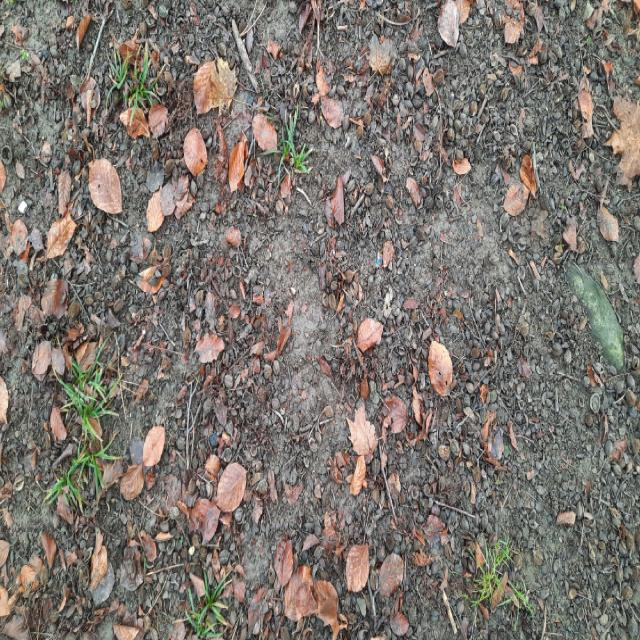grass: (134, 214, 140, 221)
